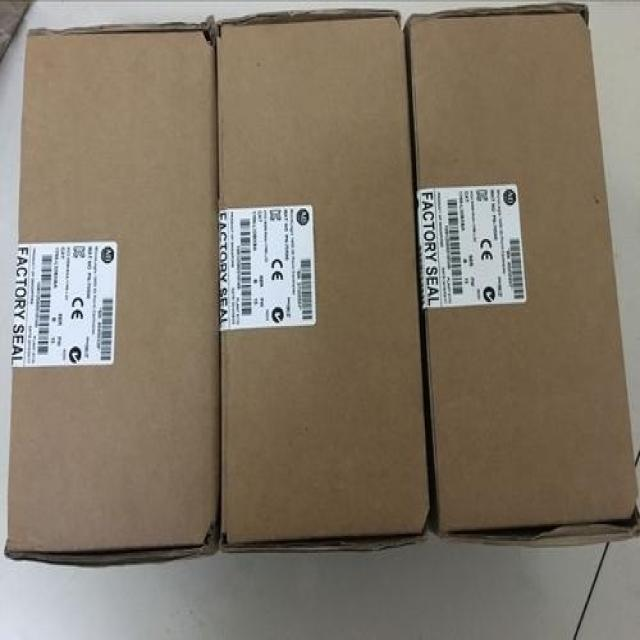box: (404, 3, 640, 548), (3, 17, 221, 567), (216, 10, 430, 553)
